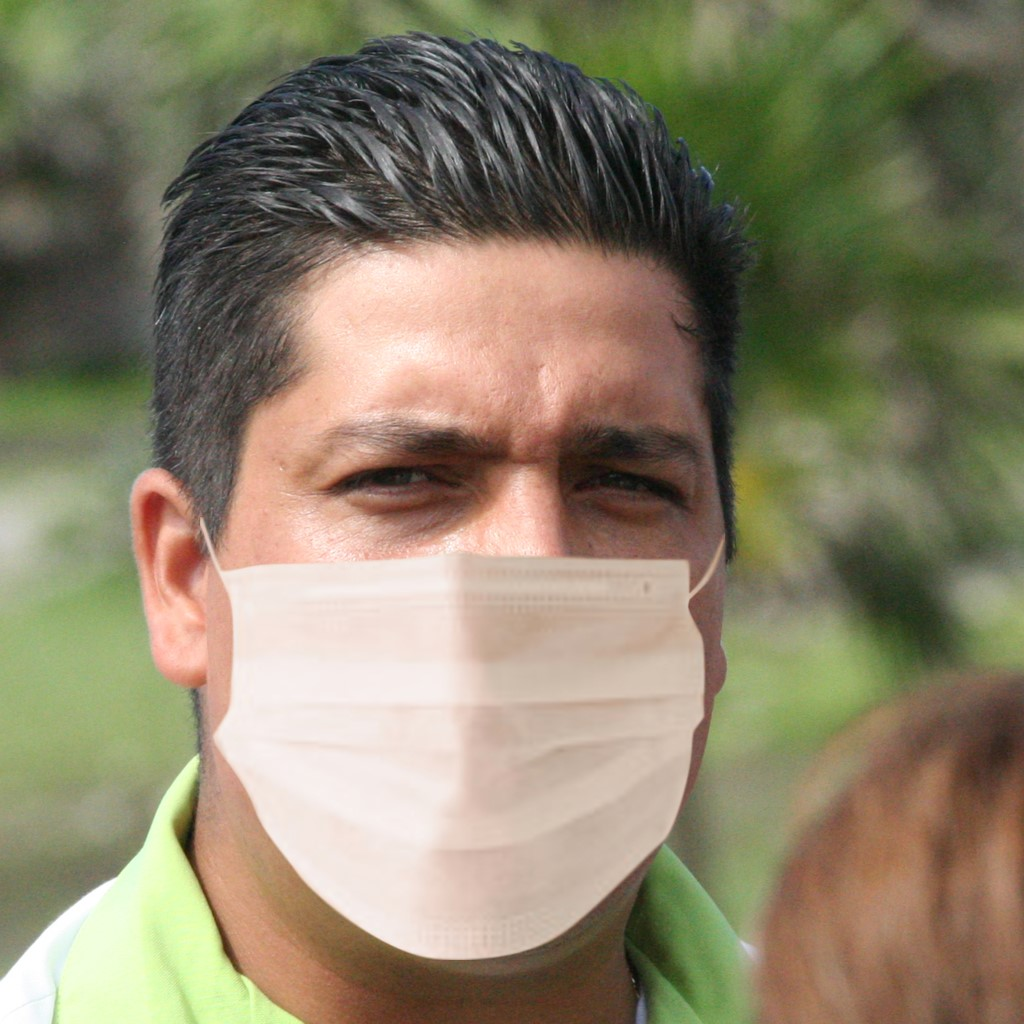con_mascara: (148, 98, 713, 949)
